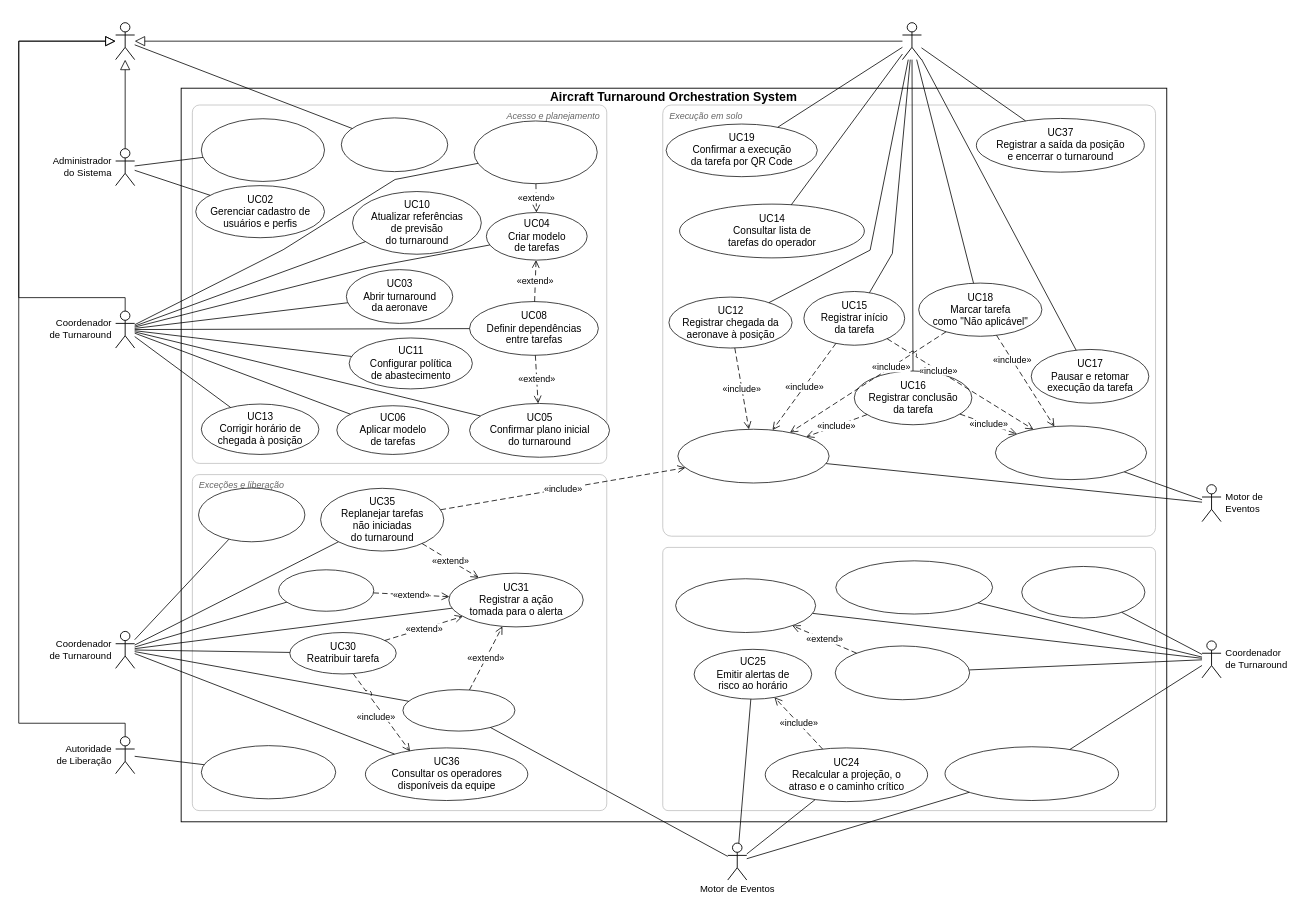
Image size: 1298x905. Some labels were removed from this diagram. The box of each missing label's shape, as (x1, y1, x2, y2) in pixels:
Monitoramento: (662, 547, 1156, 811)
Operador de Solo/Rampa: (902, 22, 922, 60)
UC01 Autenticar acesso do usuário: (341, 117, 448, 172)
UC07 Configurar pontos de confirmação das tarefas: (473, 120, 597, 184)
UC09 Gerenciar cadastro de equipes e especialidades: (201, 118, 325, 182)
UC20 Registrar os marcos do atendimento em solo: (995, 425, 1147, 480)
UC21 Propagar o estado das tarefas e do turnaround: (677, 429, 829, 483)
UC22 Acompanhar painel dos turnarounds: (675, 578, 816, 633)
UC23 Consultar a linha do tempo do turnaround: (835, 645, 970, 700)
UC26 Consultar a lista de alertas abertos: (1021, 566, 1145, 618)
UC27 Registrar a checagem com as equipes em TOBT − 15: (944, 746, 1119, 801)
UC28 Consultar os indicadores de aderência: (835, 560, 993, 614)
UC29 Abrir exceção: (278, 569, 374, 611)
UC32 Confirmar a prontidão e liberar a aeronave: (201, 745, 336, 799)
UC33 Encerrar exceção do turnaround: (198, 487, 305, 542)
UC34 Atualizar o TOBT: (402, 689, 515, 731)
Usuário: (115, 22, 135, 60)
